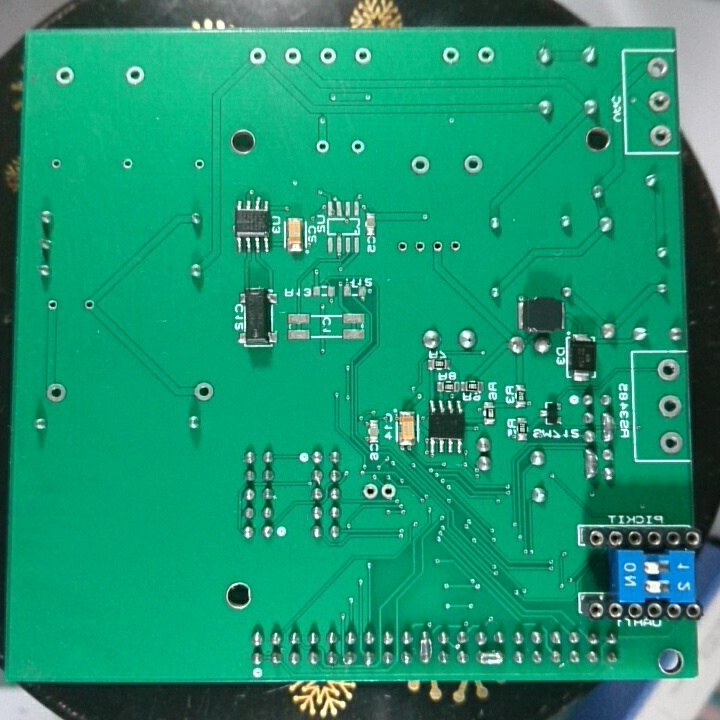F: (656, 392, 685, 420), (646, 121, 674, 148), (657, 428, 685, 455), (642, 54, 671, 80), (121, 63, 149, 89), (645, 89, 674, 114), (655, 358, 682, 383), (52, 63, 77, 89), (408, 152, 433, 177), (245, 44, 269, 69), (474, 43, 499, 67), (191, 380, 217, 403), (281, 43, 304, 69), (439, 43, 465, 66), (459, 152, 484, 175), (43, 381, 68, 403), (317, 42, 338, 67), (350, 44, 372, 66), (379, 480, 399, 503), (313, 136, 333, 157), (361, 481, 380, 502), (349, 137, 368, 158), (118, 155, 137, 174), (81, 295, 98, 316), (43, 297, 61, 316), (411, 237, 428, 257), (447, 235, 463, 256), (394, 236, 410, 257), (191, 155, 208, 173), (428, 237, 445, 255), (49, 155, 64, 172)
P: (474, 646, 508, 668), (581, 446, 599, 483), (417, 627, 433, 667), (598, 410, 617, 443)
